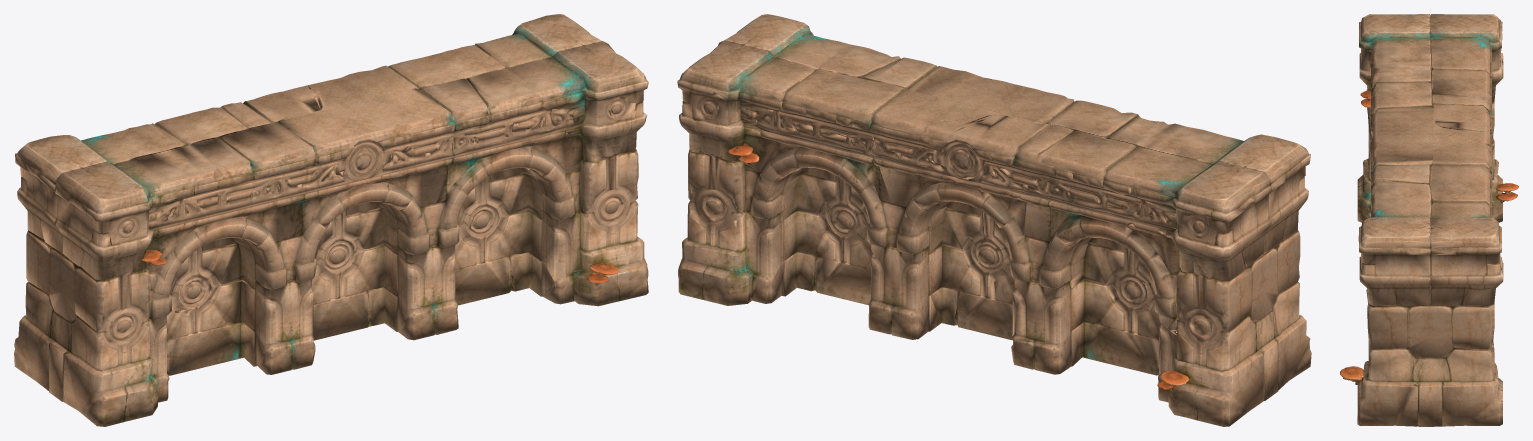
File: citadel_arenawall.fbx
3 views of the same model, side by side, from view 1: azimuth 30°, elevation 25°; view 2: azimuth 150°, elevation 25°; view 3: azimuth 270°, elevation 25° (orthographic). The views are drawn at different scales.
Visible parts, largest first — view 1: citadel_arenawall; view 2: citadel_arenawall; view 3: citadel_arenawall.
Boxes of the visible parts, bbox=[...] form: citadel_arenawall: bbox=[14, 14, 648, 426]; citadel_arenawall: bbox=[677, 14, 1311, 426]; citadel_arenawall: bbox=[1340, 14, 1518, 426].
Size of the model in its own units: 16 by 6.14 by 5.28.
